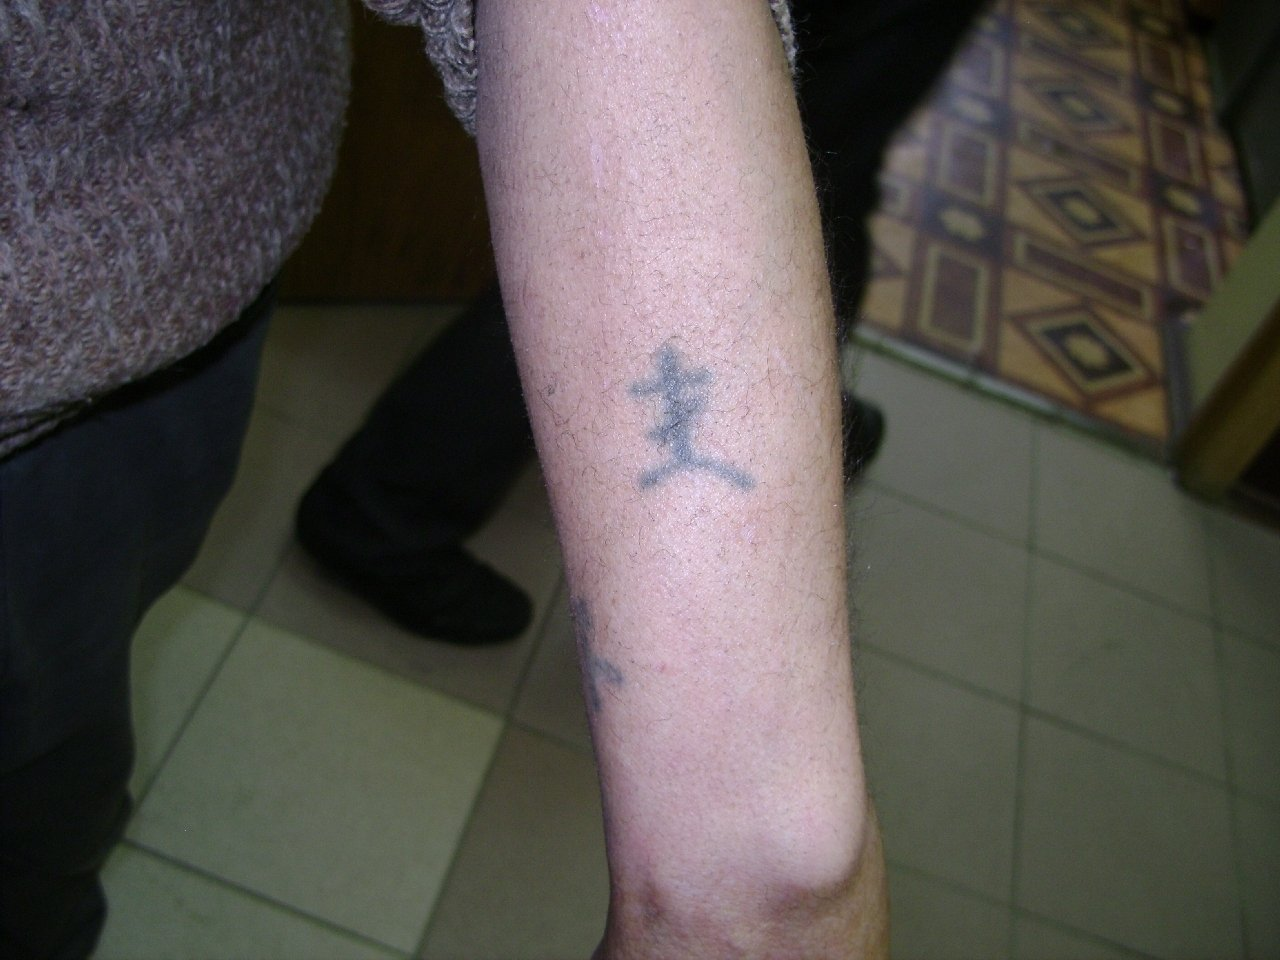tatu9_krest: (625, 337, 771, 515)
